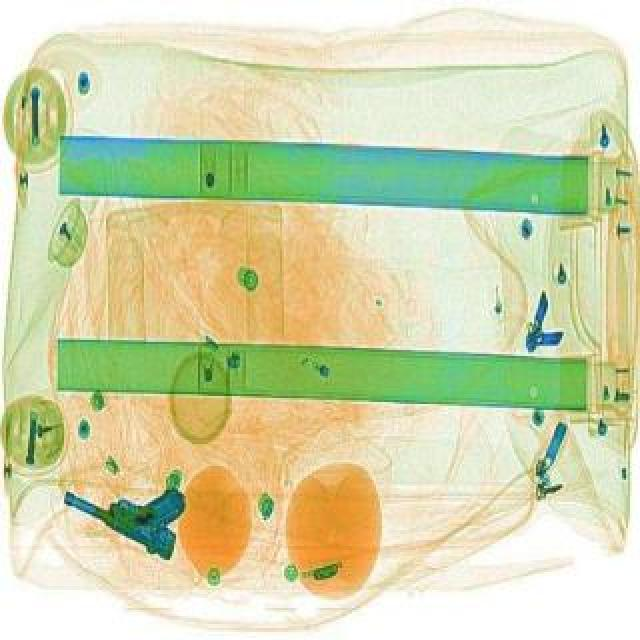gun: (56, 444, 204, 562)
